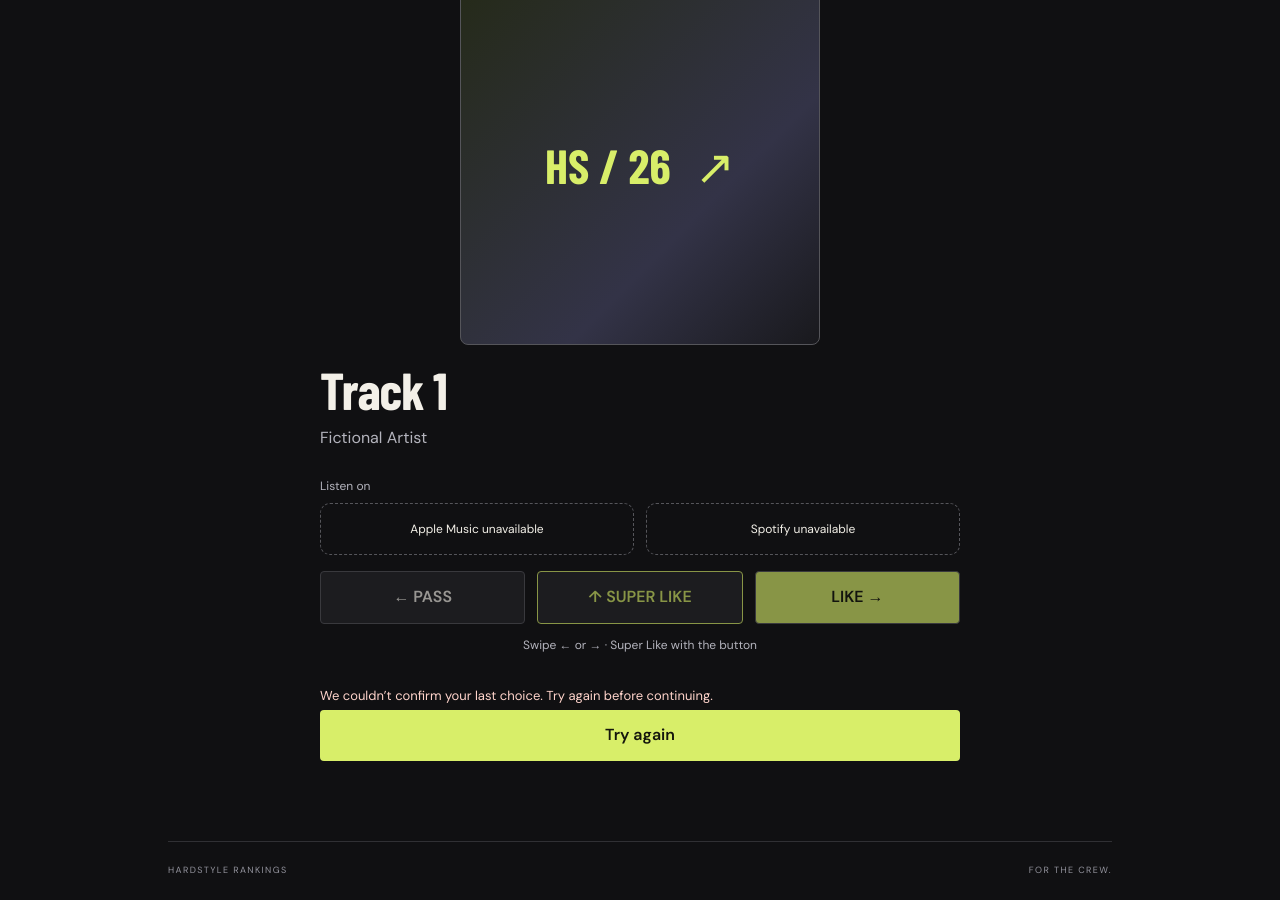
durable rating › can replay an accepted pending action after the season locks
(page scrolled)
Click the button "Try again": point(640, 735) top-left (320, 710), bottom-right (960, 761)
(page scrolled)
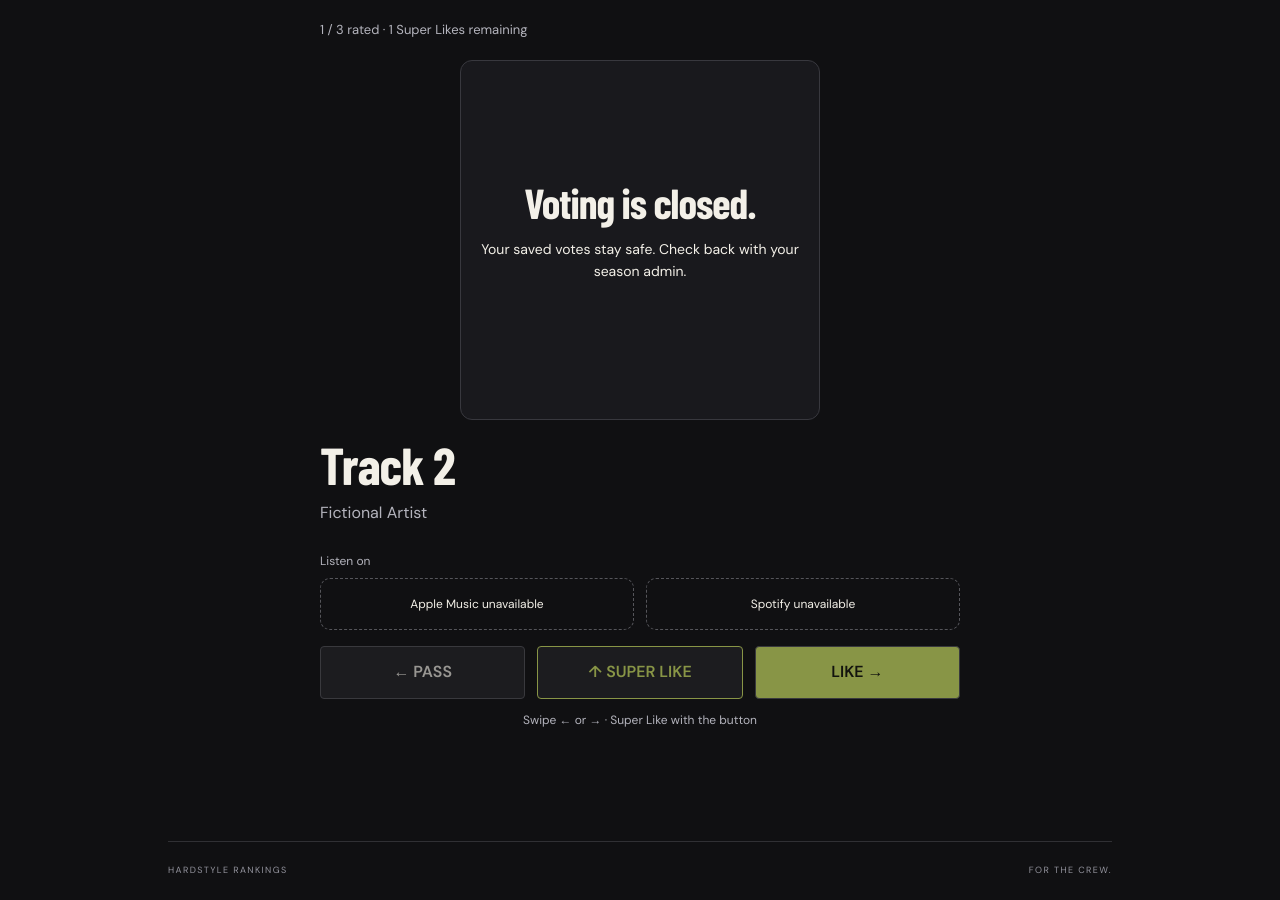
Check: the heading "Voting is closed." is shown, box top-left (524, 182), bottom-right (756, 223)
